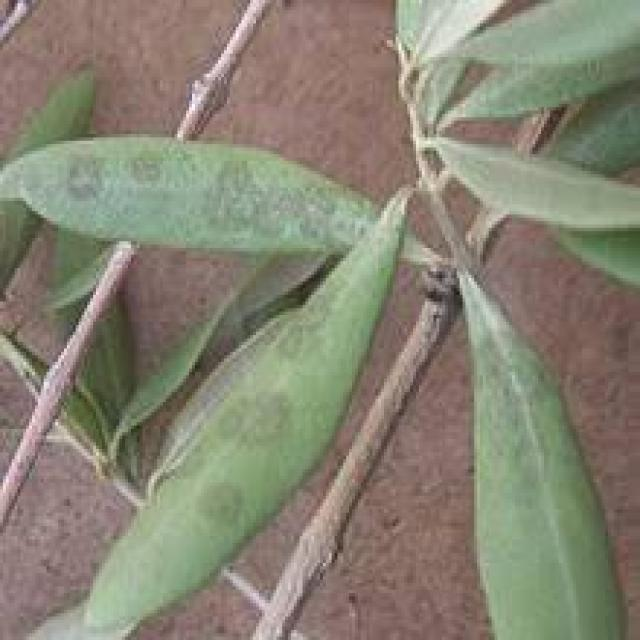Peacock Eye: (47, 198, 404, 637), (15, 137, 372, 248)
